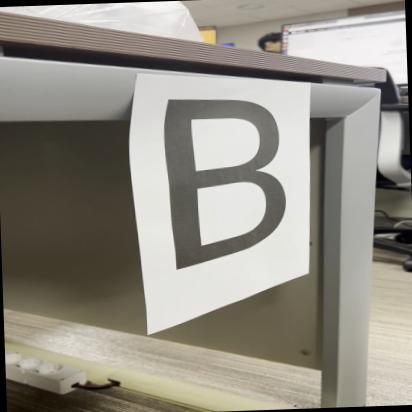seat: (163, 90, 305, 304)
